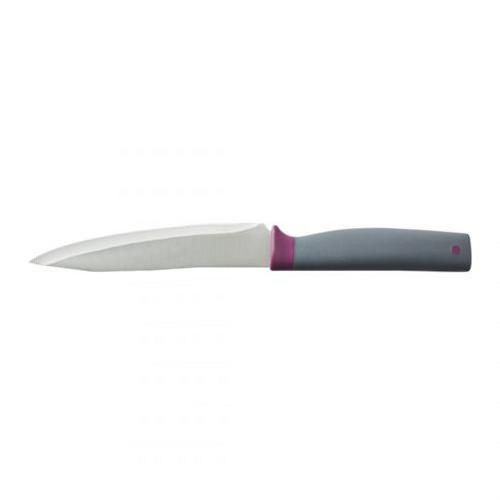knife: (28, 218, 473, 276)
